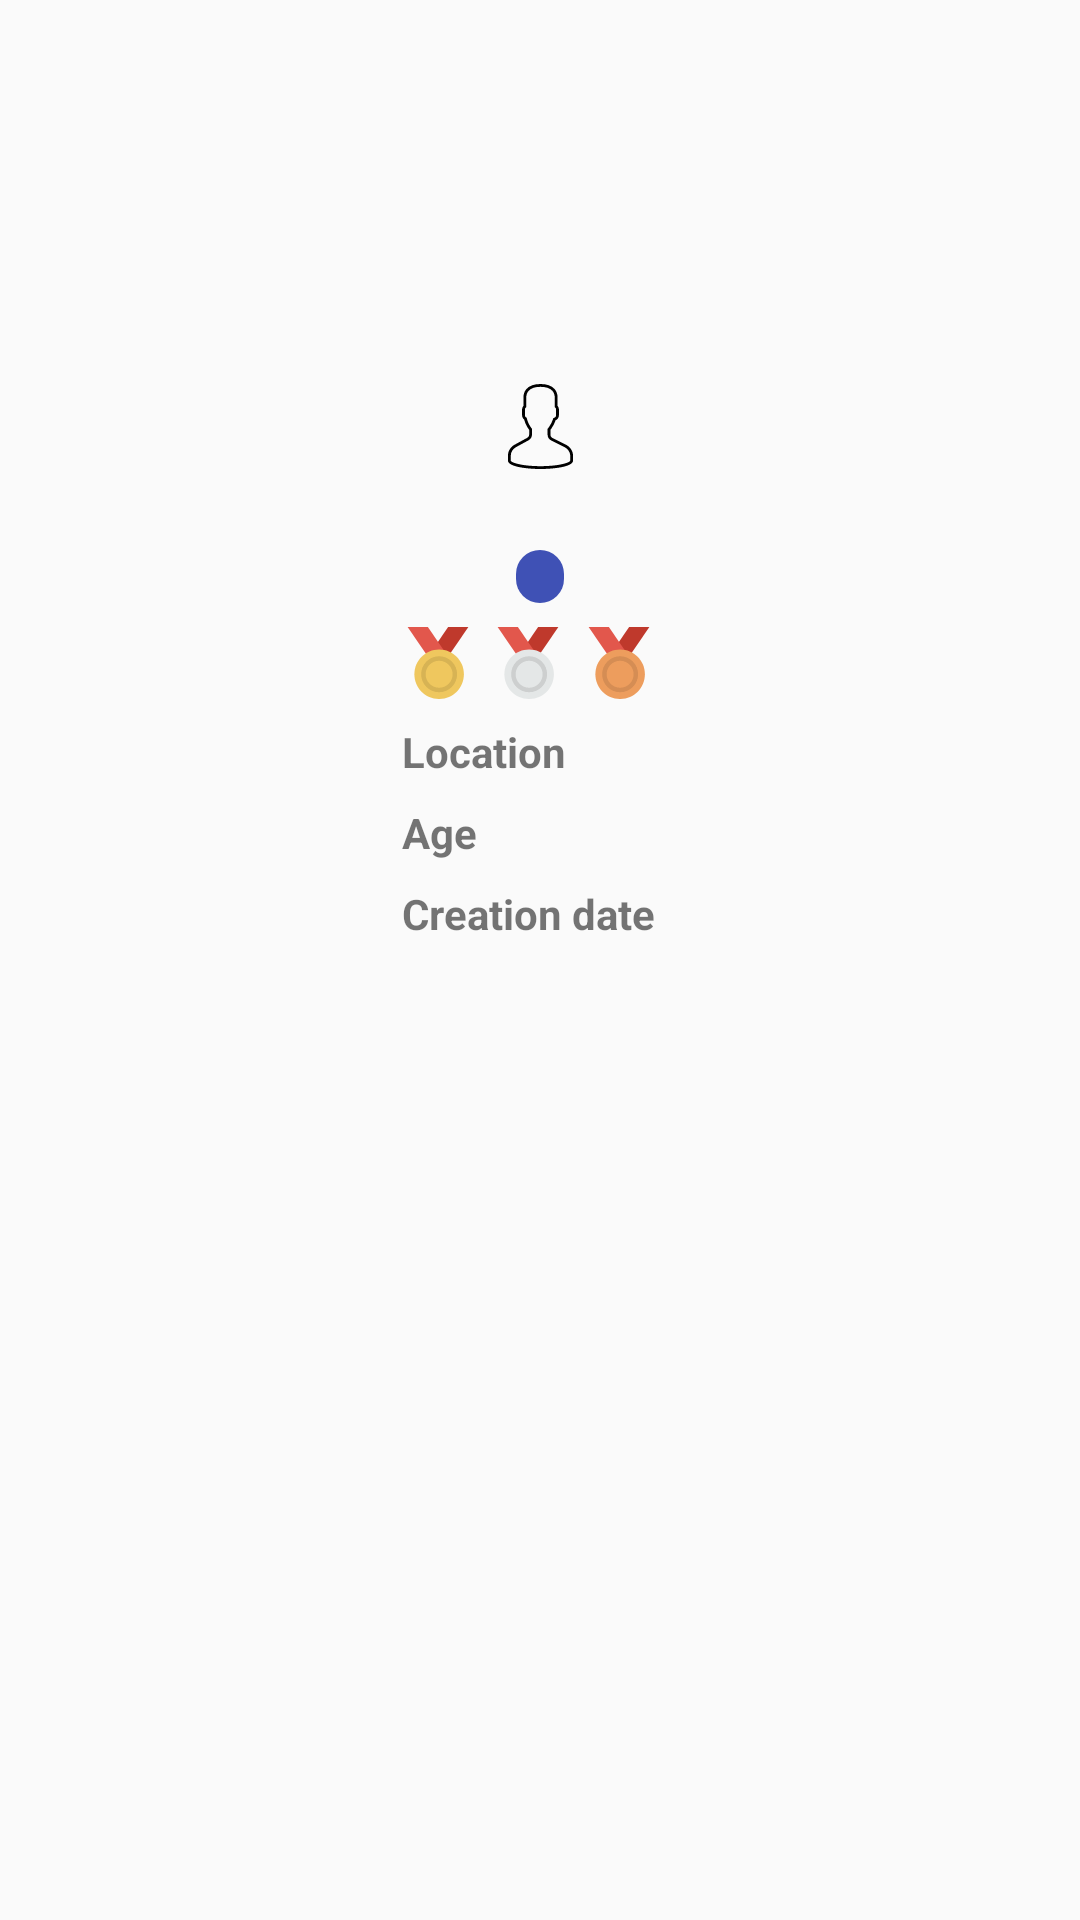

Screen size 1080*1920. Icon name, then its center in pixels as (x=x, y=y):
Bronze medal badge: (x=619, y=663)
Golden medal badge: (x=438, y=663)
Silver medal badge: (x=528, y=660)
User's avatar: (x=540, y=426)
